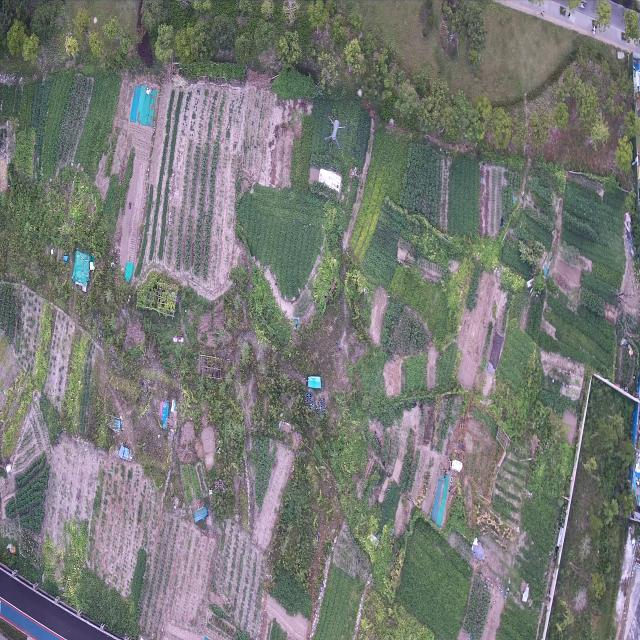UAV: (324, 114, 345, 149)
